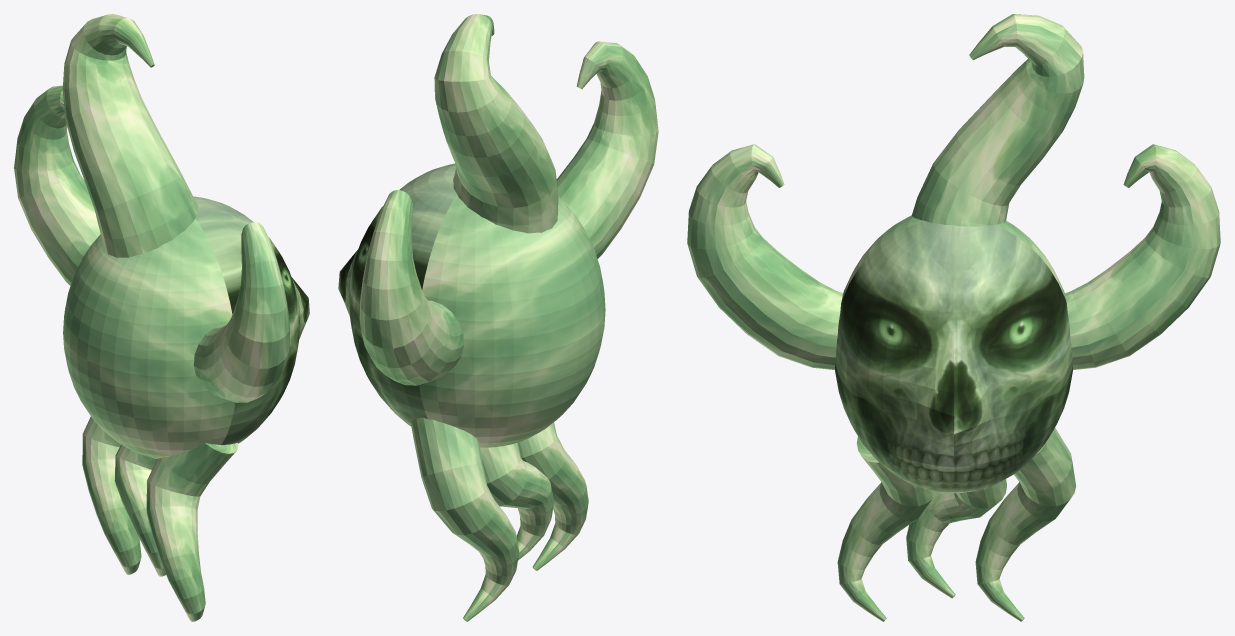
File: luzmala.obj
3 views of the same model, side by side, from view 1: azimuth 30°, elevation 25°; view 2: azimuth 150°, elevation 25°; view 3: azimuth 270°, elevation 25° (orthographic). The views are drawn at different scales.
Visible parts, largest first — view 1: head_skin, crest_flame_skin, left_side_flame_skin, right_side_flame_skin, lower_wisp_0_skin, head_face, lower_wisp_2_skin, lower_wisp_1_skin; view 2: head_skin, crest_flame_skin, left_side_flame_skin, right_side_flame_skin, lower_wisp_2_skin, head_face, lower_wisp_1_skin, lower_wisp_0_skin; view 3: head_face, crest_flame_skin, left_side_flame_skin, right_side_flame_skin, lower_wisp_2_skin, lower_wisp_0_skin, lower_wisp_1_skin, head_skin.
Boxes of the visible parts, x1,y1,x2,y2 form: head_skin: (63,219,235,458); crest_flame_skin: (62,14,198,257); left_side_flame_skin: (193,222,289,402); right_side_flame_skin: (14,85,100,285); lower_wisp_0_skin: (146,443,238,621); head_face: (193,196,309,445); lower_wisp_2_skin: (82,416,141,574); lower_wisp_1_skin: (114,444,165,576); head_skin: (419,194,605,447); crest_flame_skin: (434,14,558,233); left_side_flame_skin: (556,41,658,258); right_side_flame_skin: (359,190,463,385); lower_wisp_2_skin: (410,417,519,621); head_face: (338,163,456,426); lower_wisp_1_skin: (480,442,553,560); lower_wisp_0_skin: (518,422,588,570); head_face: (835,221,1072,493); crest_flame_skin: (911,14,1084,226); left_side_flame_skin: (687,144,842,369); right_side_flame_skin: (1065,144,1220,369); lower_wisp_2_skin: (975,428,1075,621); lower_wisp_0_skin: (837,436,936,621); lower_wisp_1_skin: (906,479,1006,598); head_skin: (841,215,1066,301).
Bounding box in the file's own units: 43.44 × 100 × 80.27.
Materials: 1 (1 with a texture image).
